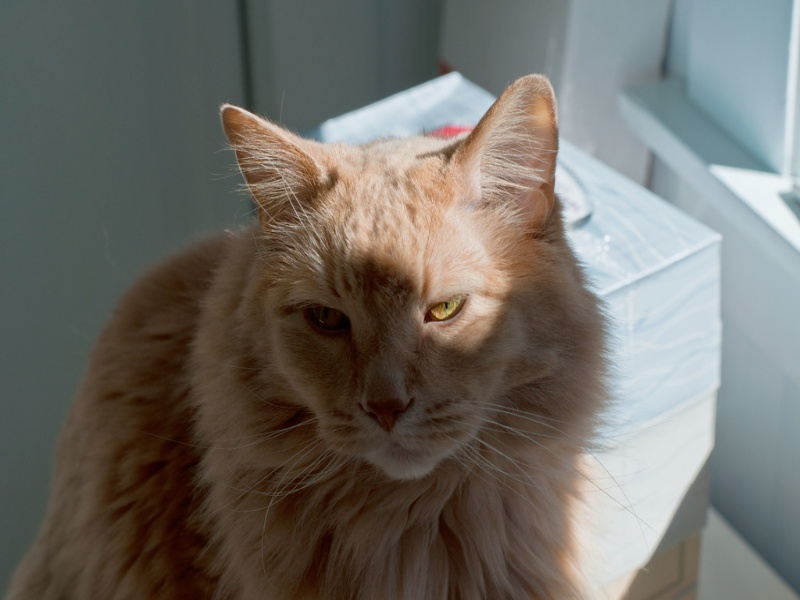cat: (49, 74, 605, 596)
